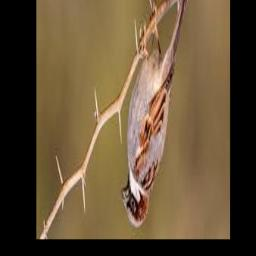Sparrow: (121, 0, 189, 229)
